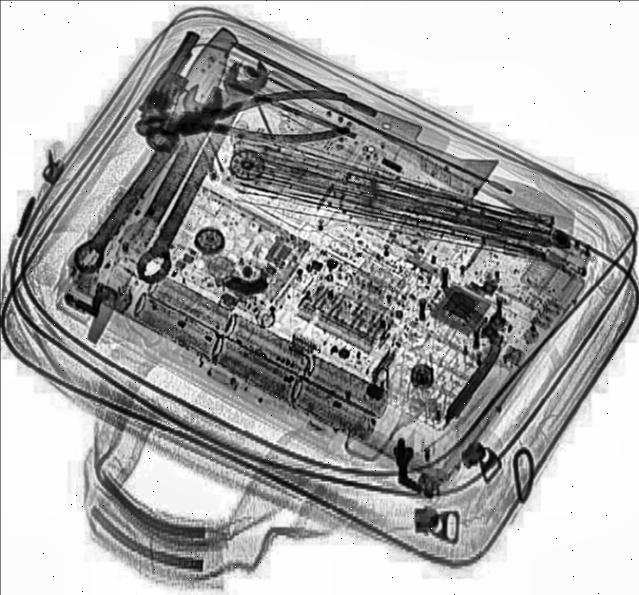Gun: (116, 29, 238, 161)
Pliers: (166, 86, 350, 156)
Wrench: (55, 77, 234, 283), (119, 52, 272, 290)
